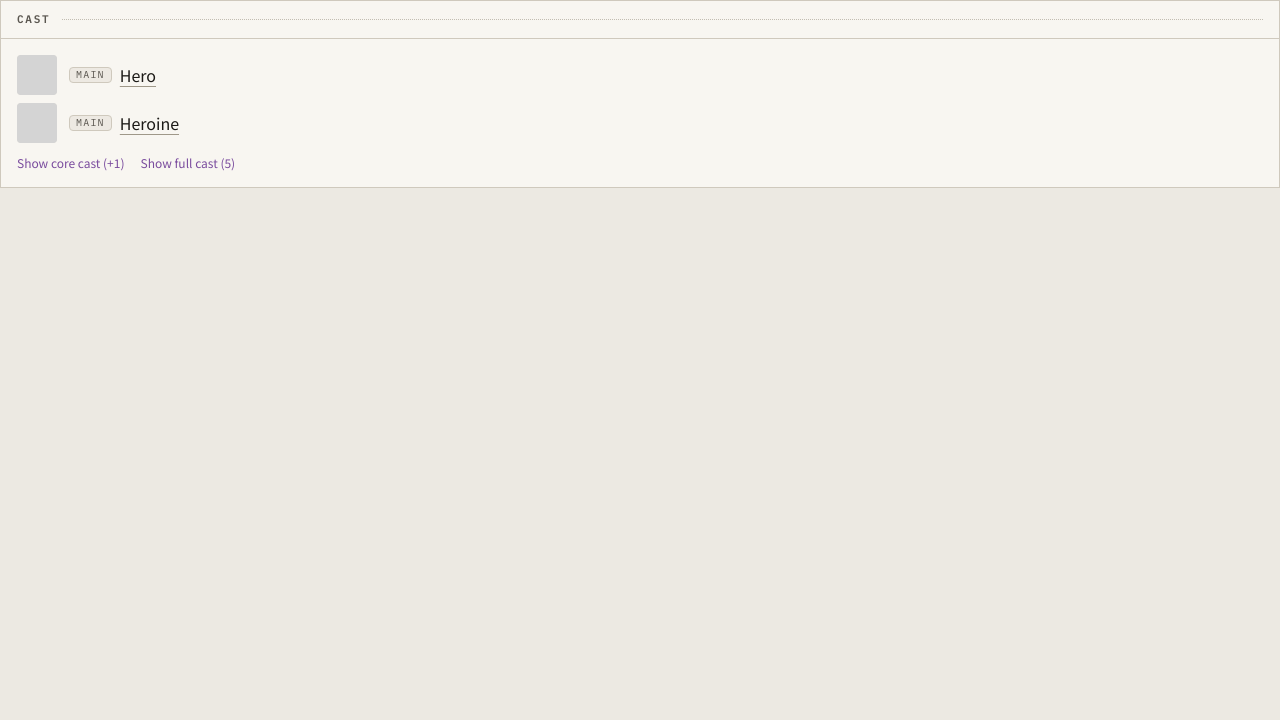
Test: lists the whole cast in a dialog
Click the button "Show full cast (5)" at coordinates (188, 162), box [140,154,235,170]
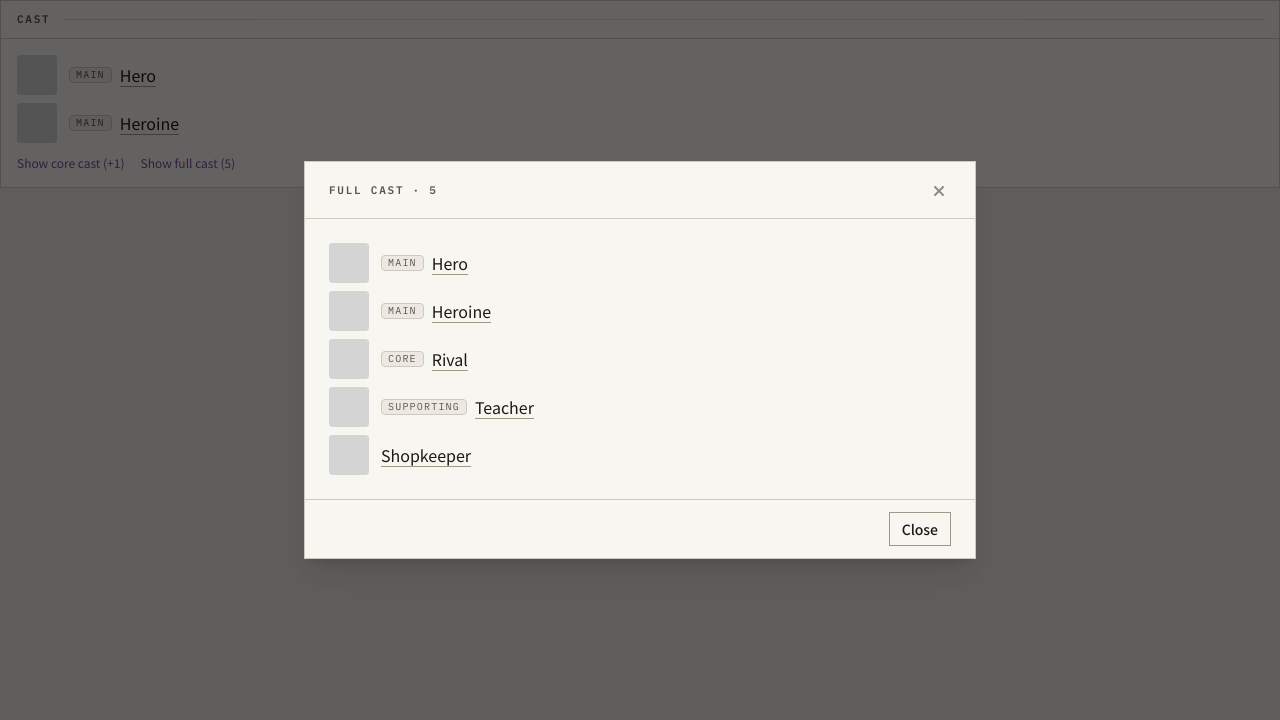
Now the links read "Hero", "Heroine", "Rival", "Teacher", "Shopkeeper", in this order, box [432,251,468,275]; [432,299,491,323]; [432,347,468,371]; [475,395,534,419]; [381,443,471,467]
Click the button "Close" at coordinates (920, 529), box [889,512,951,546]
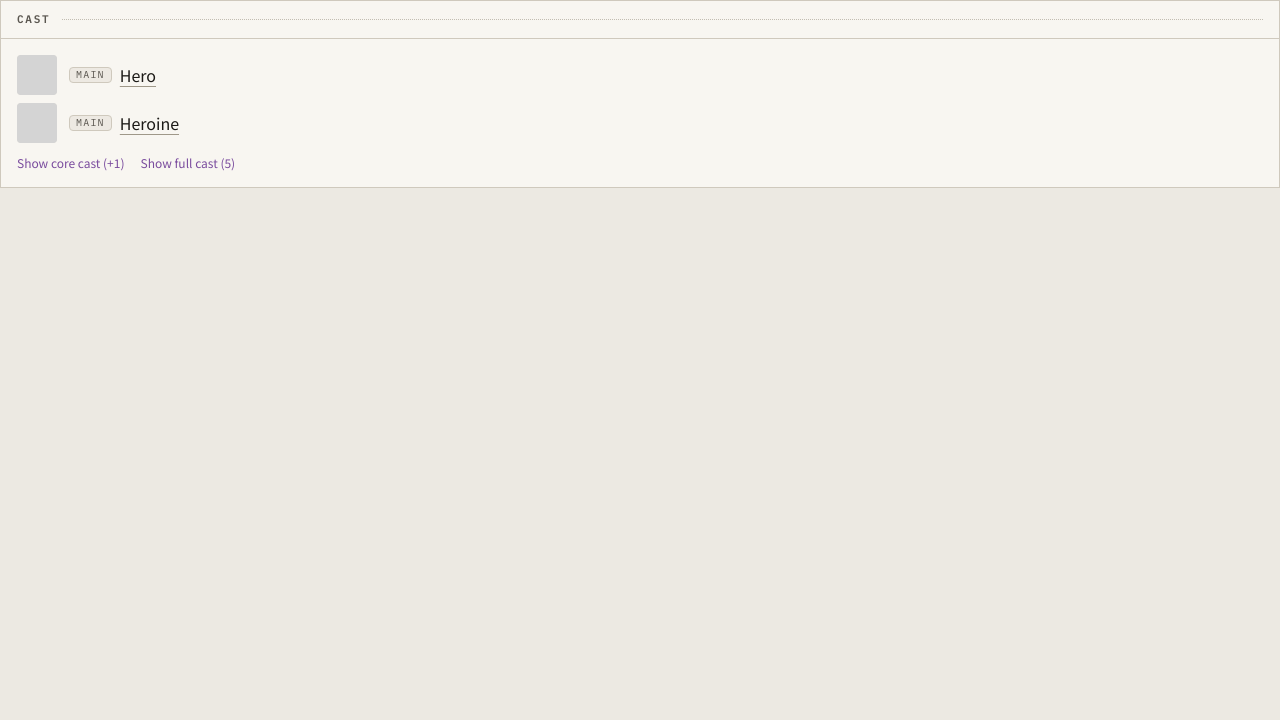
Now the dialog is gone
